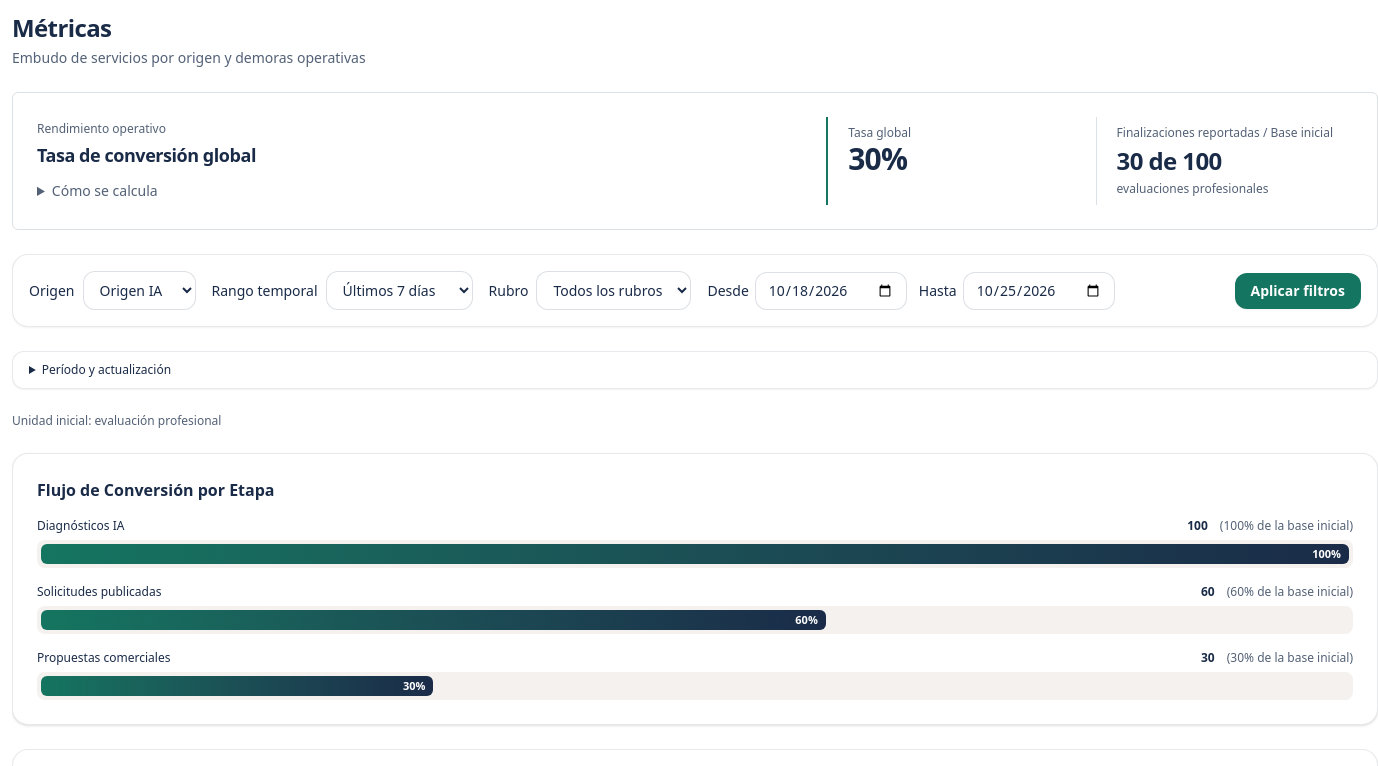
Test: CRM funnel source selection › switches to the comparison view showing AI and manual request cohorts with period notice and separate denominators
The width and height of the screenshot is (1378, 766).
Select "Comparar" in the dropdown labelled "Origen" at (139, 290), box x1=82 y1=271 x2=196 y2=310
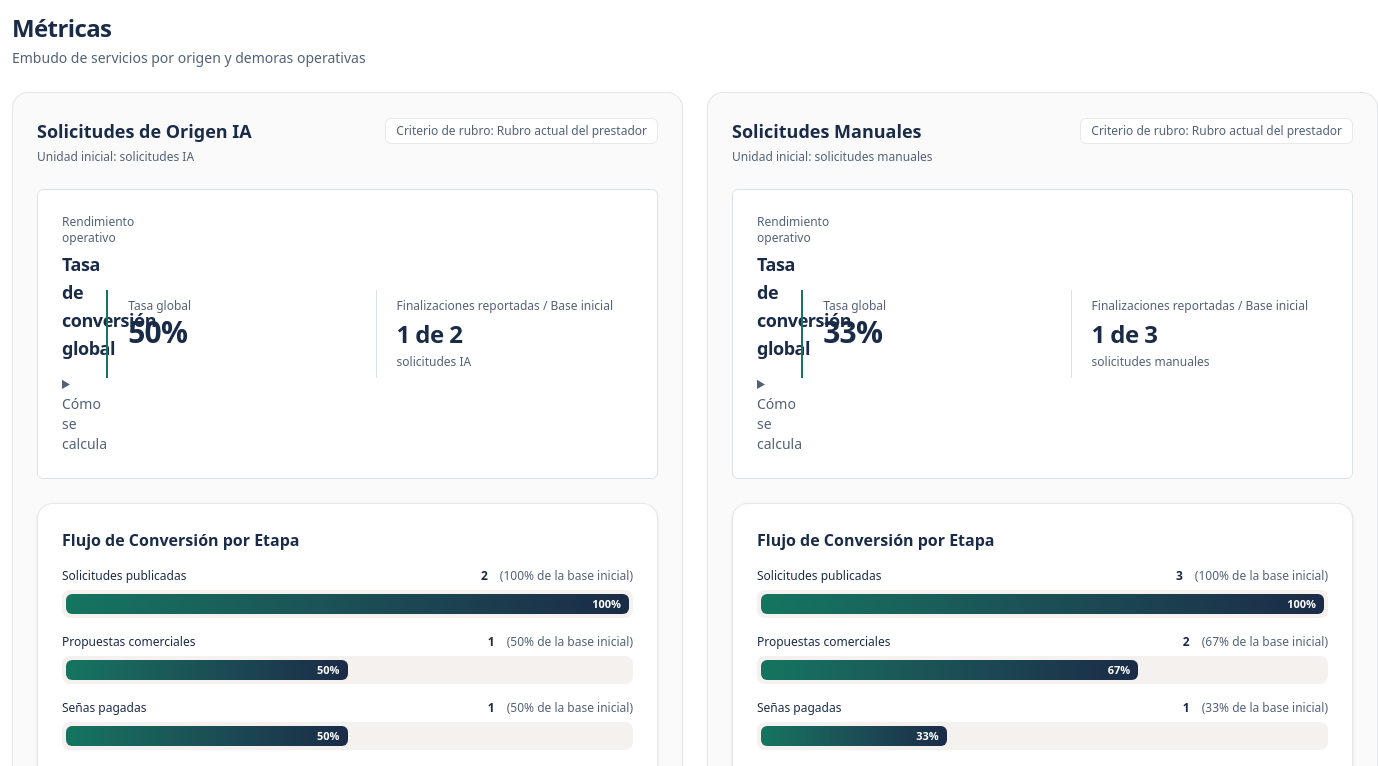
expect the element with test id "funnel-comparison-panel-ai" shows "solicitudes IA": met, box x1=120 y1=148 x2=194 y2=165
expect the element with test id "funnel-comparison-panel-manual" shows "Solicitudes Manuales": met, box x1=732 y1=119 x2=922 y2=143
expect the text with test id "funnel-category-criterion-ai" shows "Rubro actual del prestador": met, box x1=396 y1=122 x2=647 y2=139
